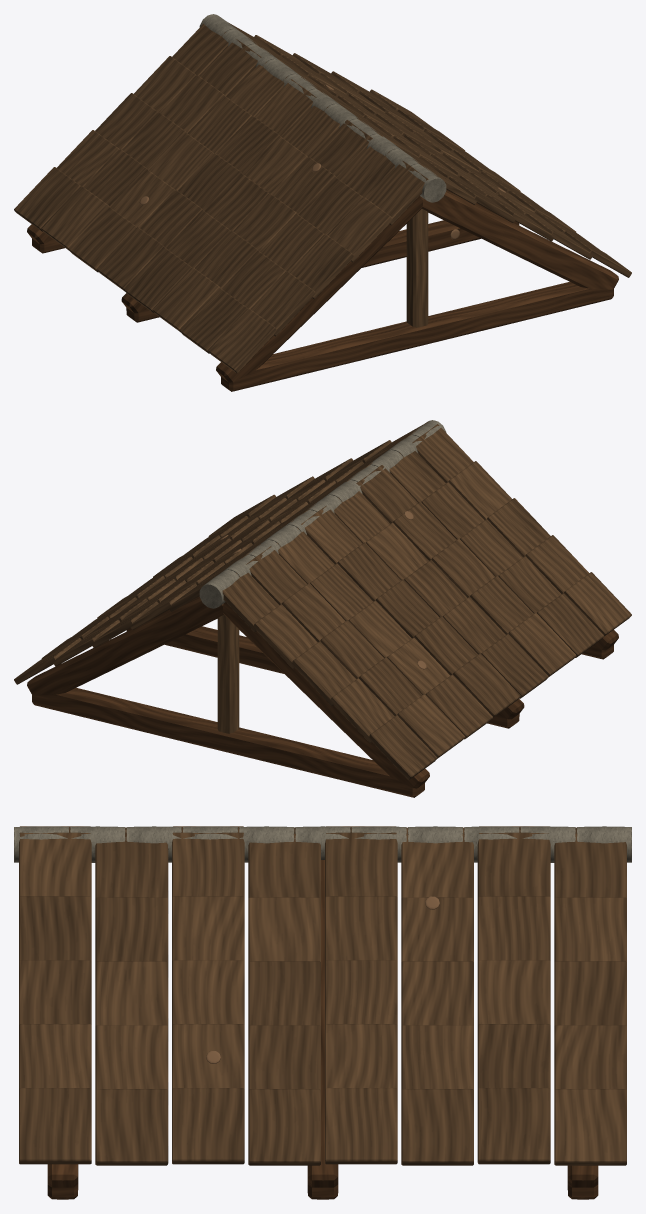
3 views of the same model, one above another, from view 1: azimuth 30°, elevation 25°; view 2: azimuth 150°, elevation 25°; view 3: azimuth 270°, elevation 25° (orthographic). The views are drawn at different scales.
Parts seen in each view (by area): view 1: split-shake-timber, quarter-sawn-timber, dressed-fieldstone-edges, exposed-end-grain; view 2: split-shake-timber, quarter-sawn-timber, dressed-fieldstone-edges, exposed-end-grain; view 3: split-shake-timber, dressed-fieldstone-edges, quarter-sawn-timber.
Boxes of the visible parts, x1=… form: split-shake-timber: x1=14, y1=22, x2=631, y2=373; quarter-sawn-timber: x1=27, y1=189, x2=618, y2=391; dressed-fieldstone-edges: x1=199, y1=14, x2=446, y2=202; exposed-end-grain: x1=406, y1=209, x2=428, y2=327; split-shake-timber: x1=14, y1=422, x2=631, y2=779; quarter-sawn-timber: x1=27, y1=596, x2=618, y2=797; dressed-fieldstone-edges: x1=199, y1=420, x2=446, y2=608; exposed-end-grain: x1=217, y1=615, x2=239, y2=733; split-shake-timber: x1=19, y1=826, x2=626, y2=1165; dressed-fieldstone-edges: x1=14, y1=826, x2=631, y2=862; quarter-sawn-timber: x1=47, y1=860, x2=598, y2=1199.
Bounding box in the file's own units: 2.07 × 0.88 × 2.02.
5 materials, 4 textured.
